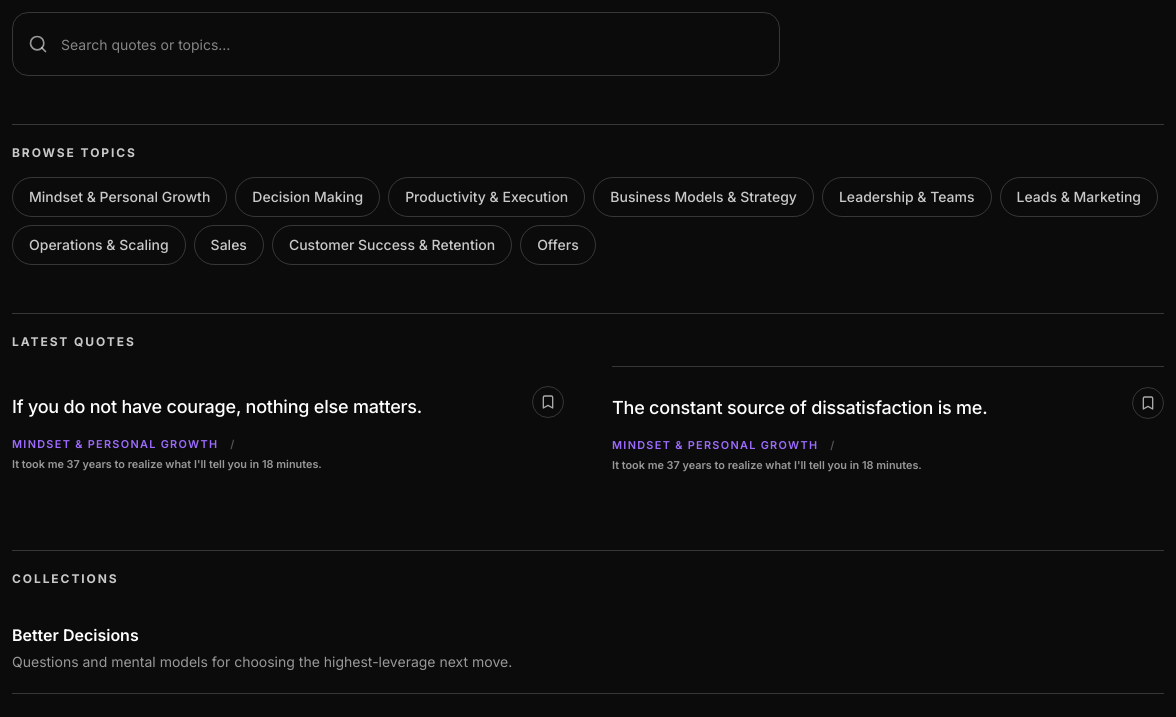
Test case: DiscoverView › offers useful recovery themes when a search has no results
In the search field labelled "Search quotes": (396, 44) top-left (12, 12), bottom-right (780, 76), type "definitely-not-a-topic"
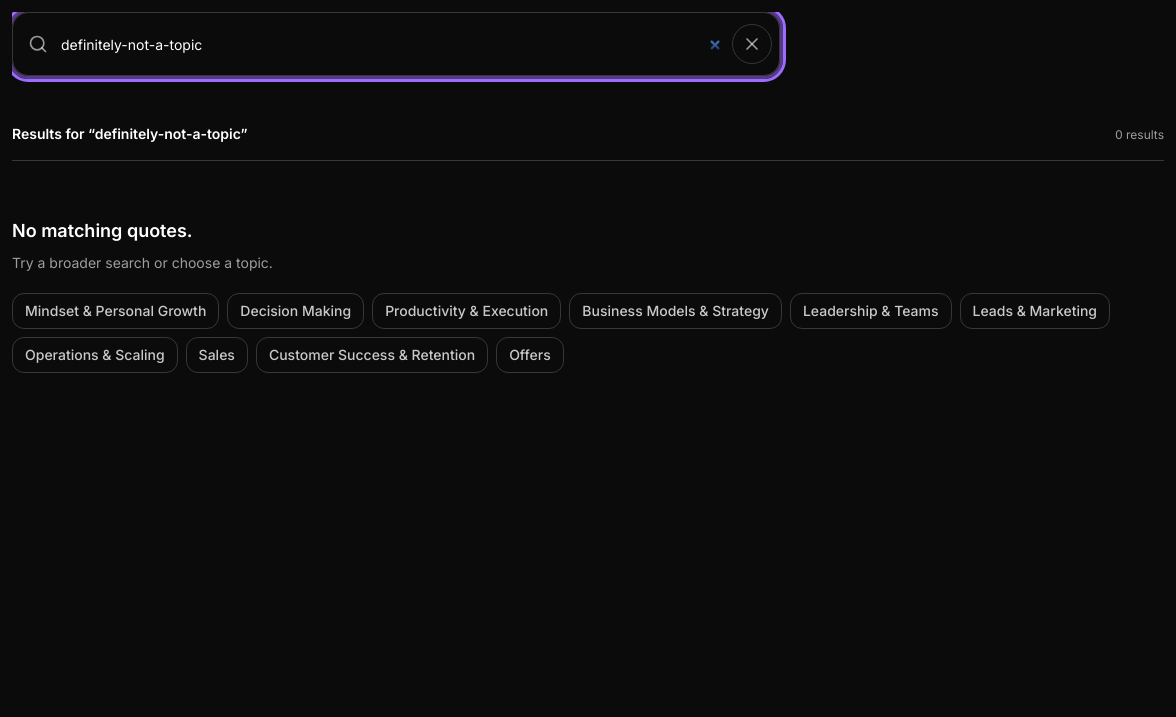
Expected: the text "No matching quotes." is shown, top-left (12, 220), bottom-right (193, 241)
